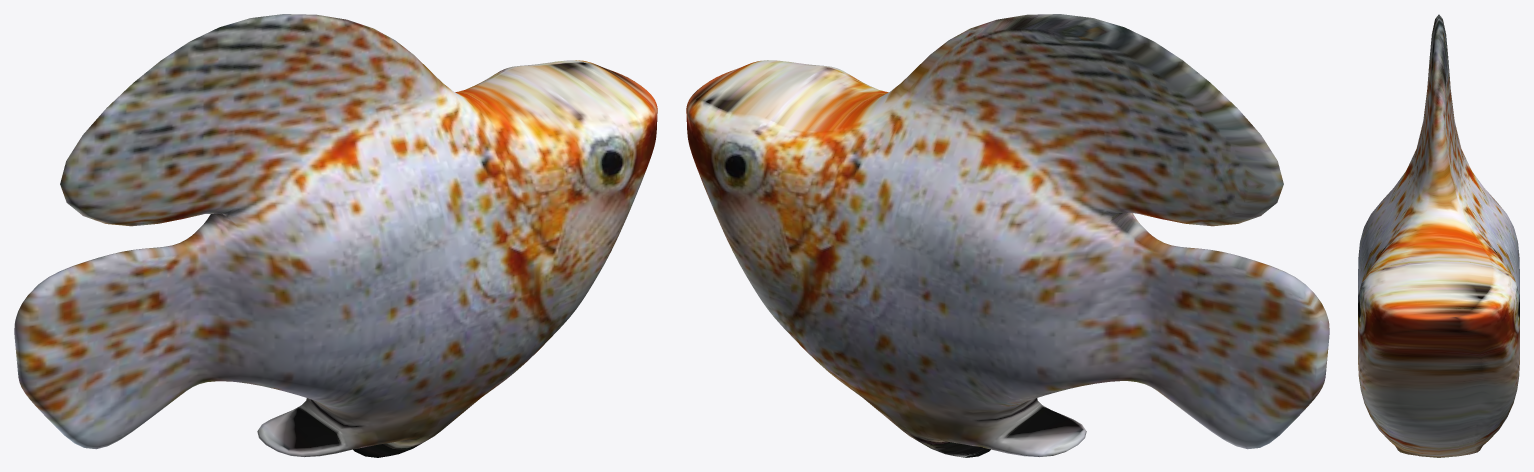
The model's file is short_molly.glb.
3 views of the same model, side by side, from view 1: azimuth 30°, elevation 25°; view 2: azimuth 150°, elevation 25°; view 3: azimuth 270°, elevation 25° (orthographic). The views are drawn at different scales.
Parts seen in each view (by area): view 1: fish; view 2: fish; view 3: fish.
Boxes of the visible parts, x1,y1,x2,y2 form: fish: (14,14,657,457); fish: (686,14,1329,457); fish: (1358,14,1519,457).
Bounding box in the file's own units: 2.77 × 1.94 × 0.7656.
1 material, 1 textured.
